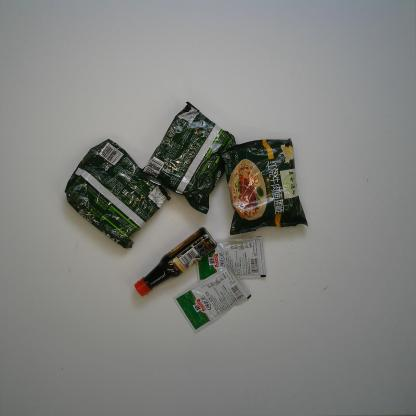Instant Noodles: (64, 138, 171, 250), (137, 101, 236, 215), (219, 137, 309, 236)
Seasoner: (133, 227, 218, 297), (172, 264, 252, 335), (195, 236, 267, 284)
